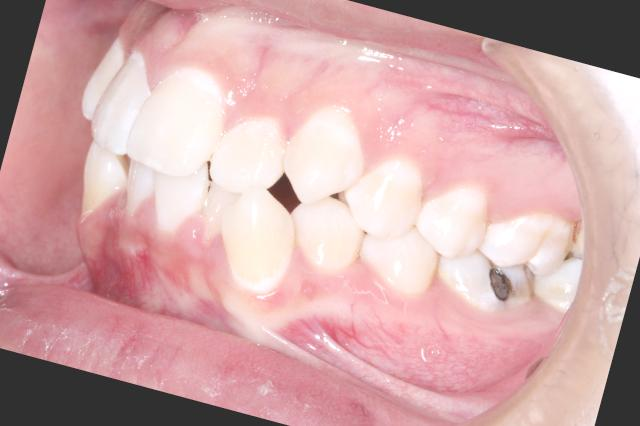canine class III 1/4: (200, 69, 404, 346)
molar class I: (428, 177, 580, 335)
